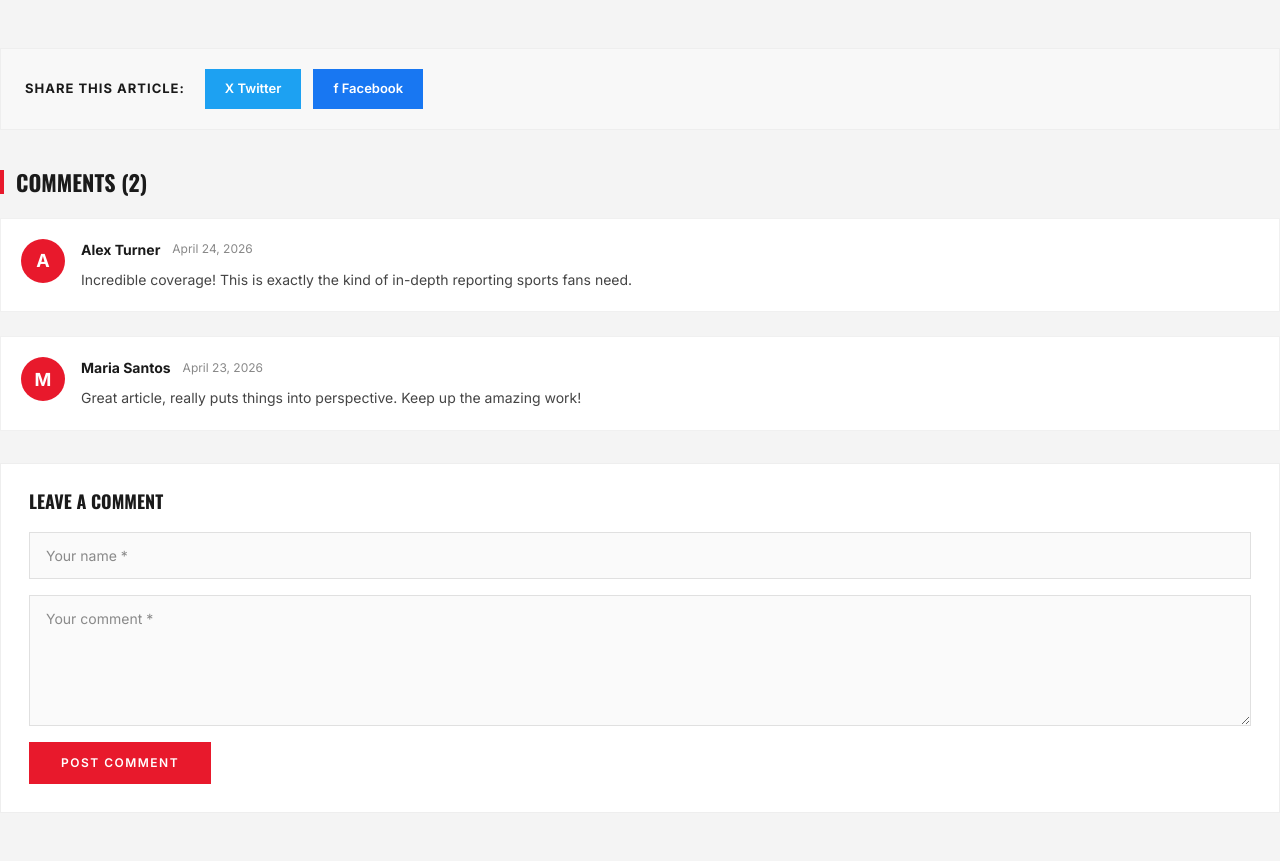
Test: CommentSection — izoh qo'shish › yangi izoh muvaffaqiyatli qo'shiladi
Type "Jasur Karimov" into the field with placeholder "Your name *" at [640, 556], box [29,532,1251,579]
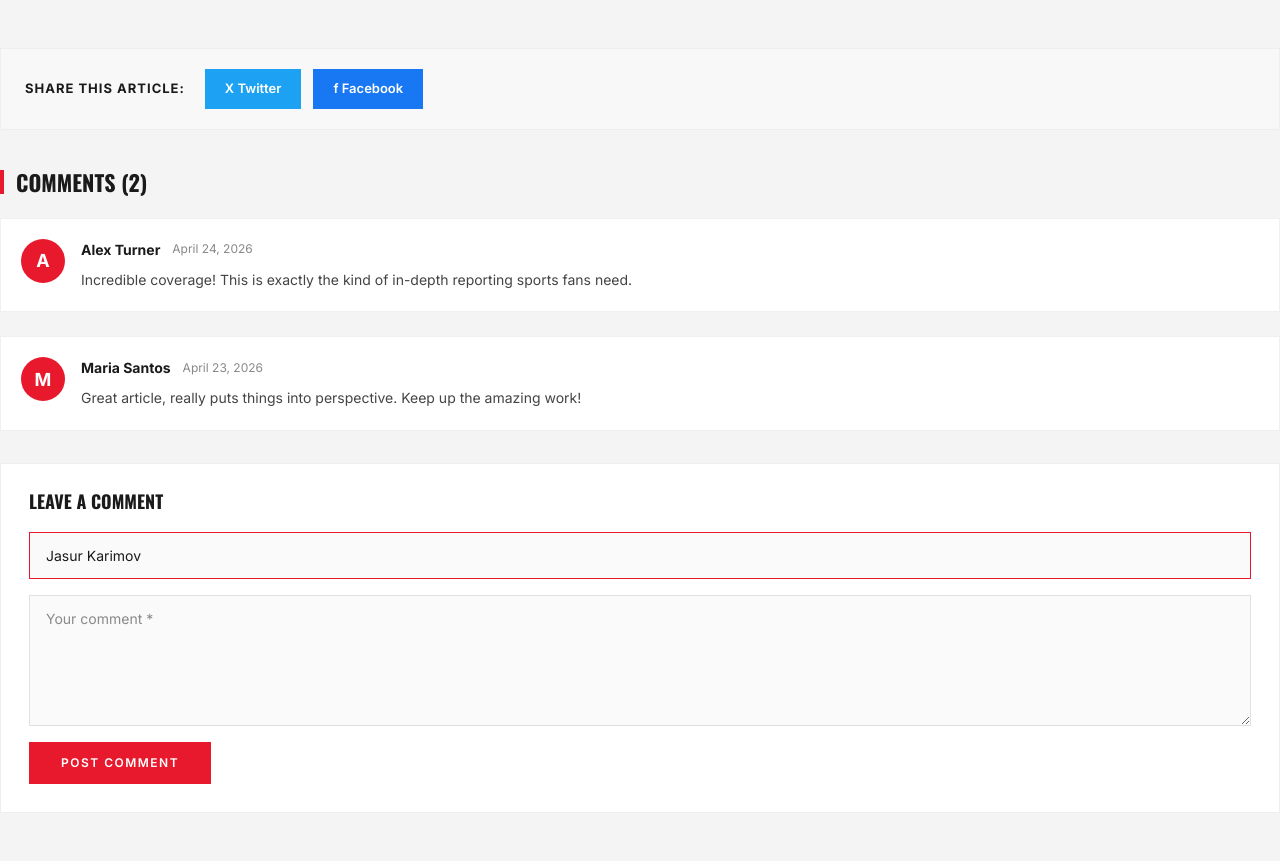
Type "Zo'r maqola!" into the text box with placeholder "Your comment *" at [640, 661], box [29,595,1251,726]
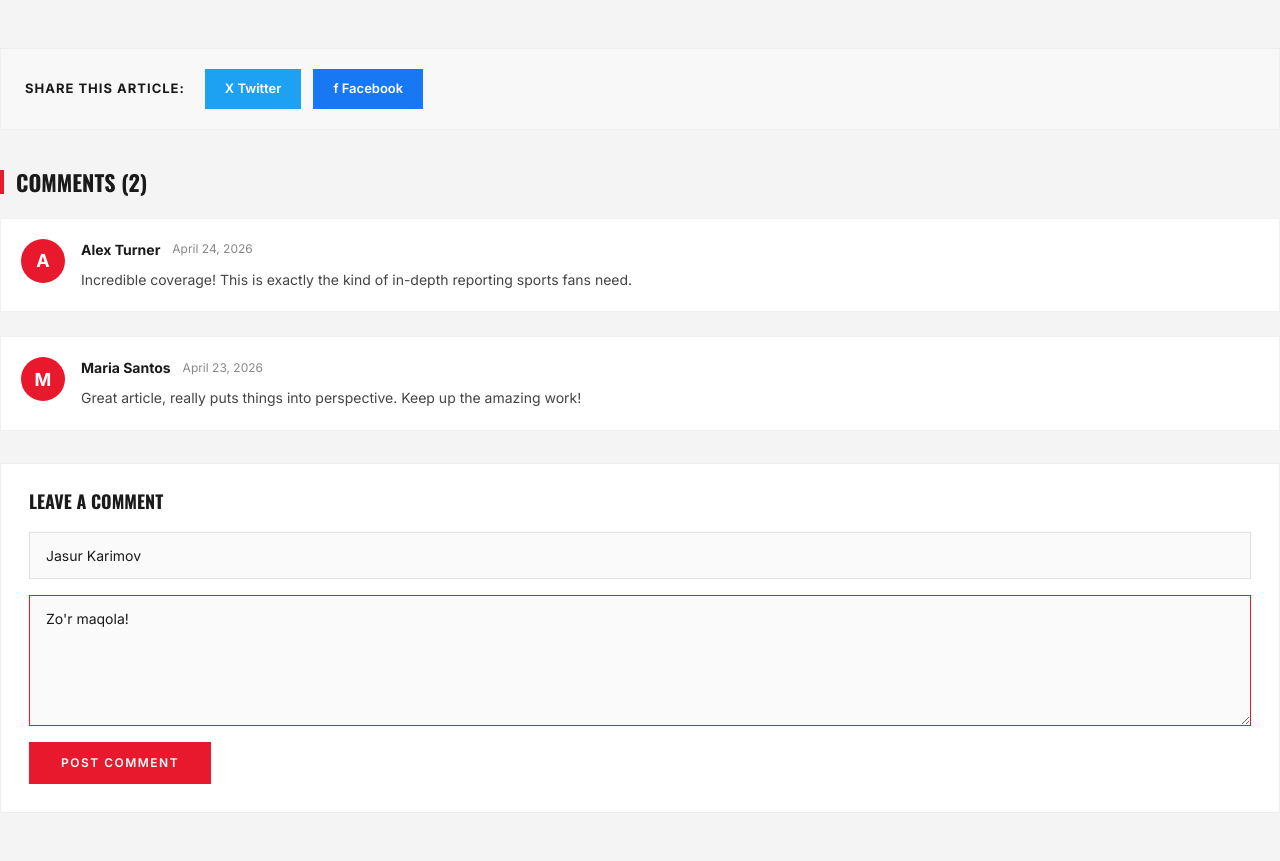
Click the button "Post Comment" at [120, 763], box [29,742,211,784]
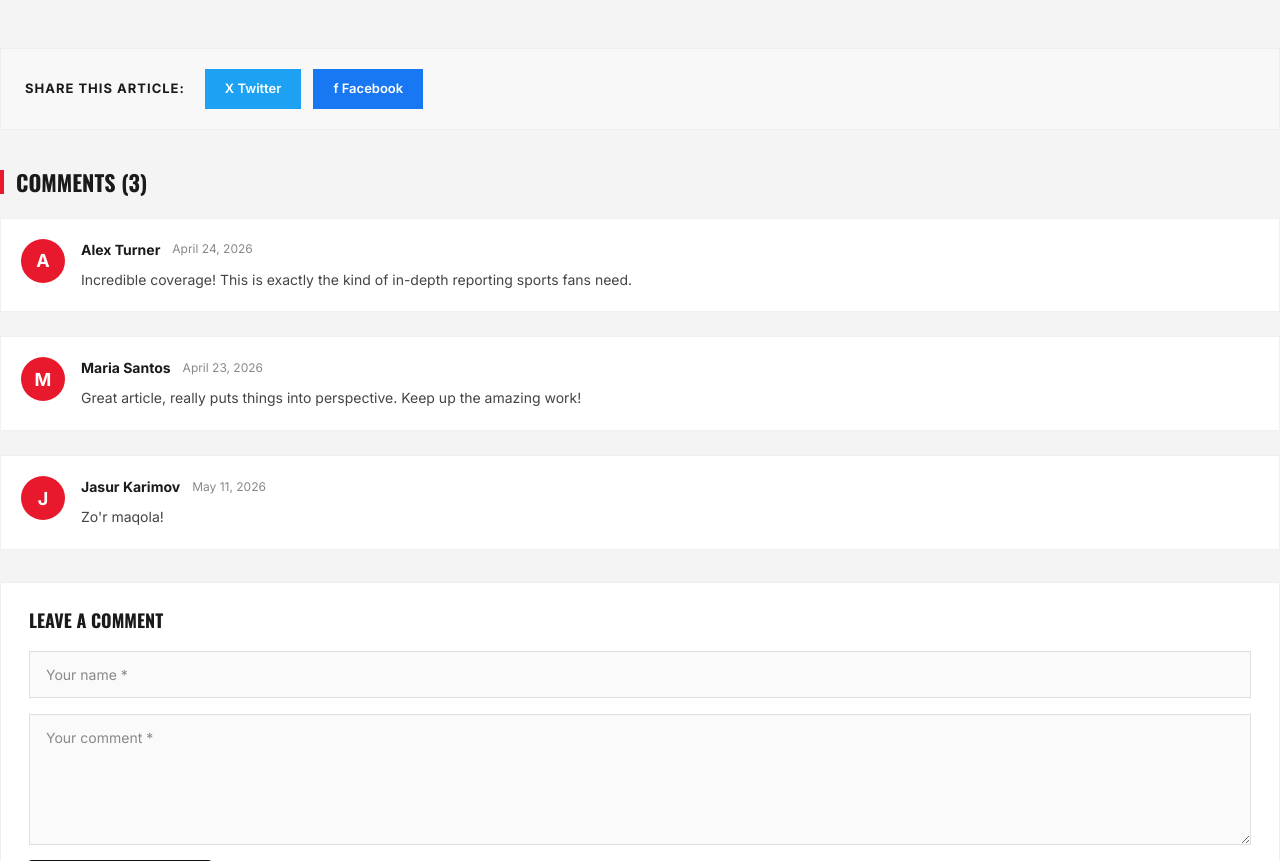
Now the text "Jasur Karimov" is shown, box [81,476,180,497]
Now the text "Zo'r maqola!" is shown, box [81,508,164,525]
